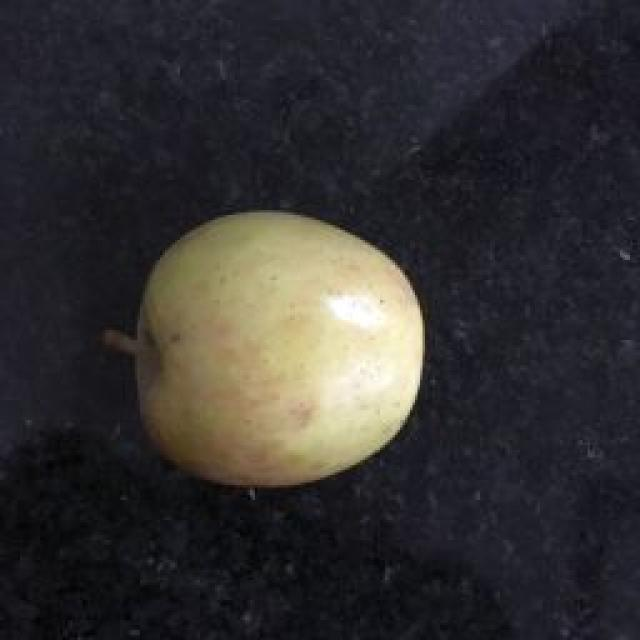Good_Apple: (98, 210, 428, 492)
